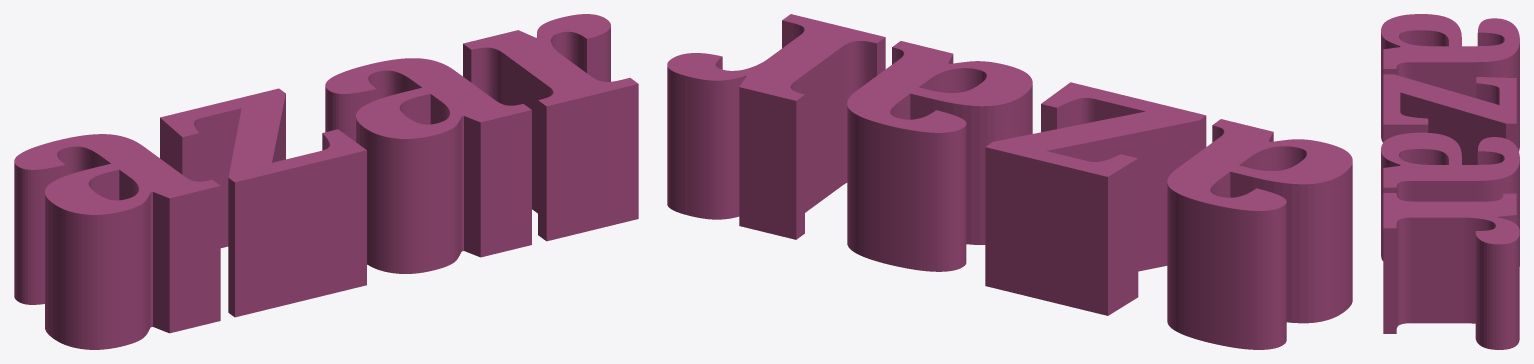
File: asset.glb
3 renders of one model, left to right at view 1: azimuth 30°, elevation 25°; view 2: azimuth 150°, elevation 25°; view 3: azimuth 270°, elevation 25°, orthographic. The views are drawn at different scales.
Visible parts, largest first — view 1: Mesh_Mesh_head_geo.001_lambert2SG.001; view 2: Mesh_Mesh_head_geo.001_lambert2SG.001; view 3: Mesh_Mesh_head_geo.001_lambert2SG.001.
Boxes of the visible parts, <box> form: Mesh_Mesh_head_geo.001_lambert2SG.001: <box>14,14,638,349</box>; Mesh_Mesh_head_geo.001_lambert2SG.001: <box>667,14,1352,349</box>; Mesh_Mesh_head_geo.001_lambert2SG.001: <box>1381,14,1519,349</box>.
Bounding box in the file's own units: 60.84 × 13 × 15.5.
